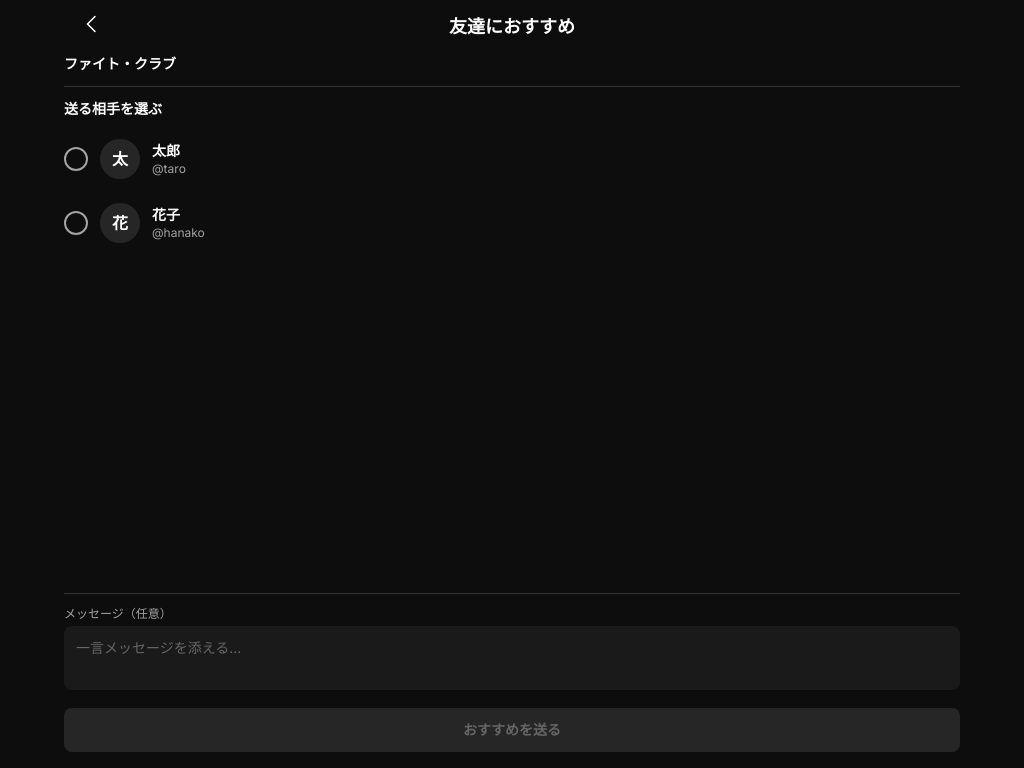
Test: RecommendPage › ユーザー選択をトグルできる
The image size is (1024, 768).
Click the text "太郎" at (166, 150), box [152,142,180,159]
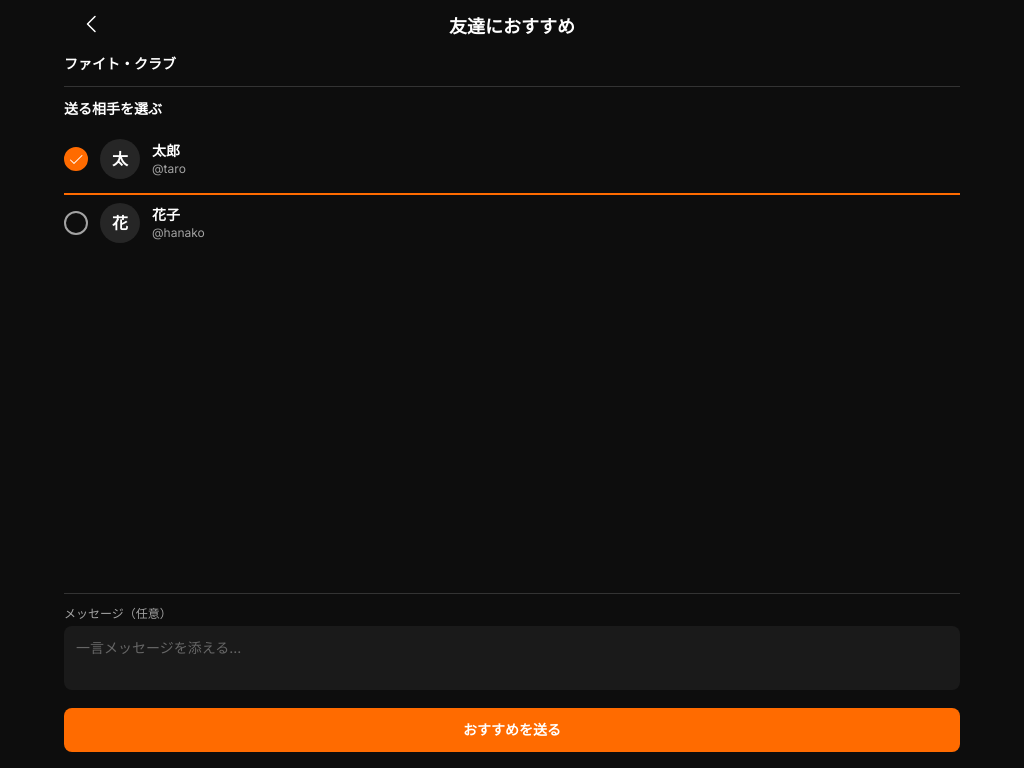
Expected: the button "おすすめを送る" is enabled, [64,708,960,752]
